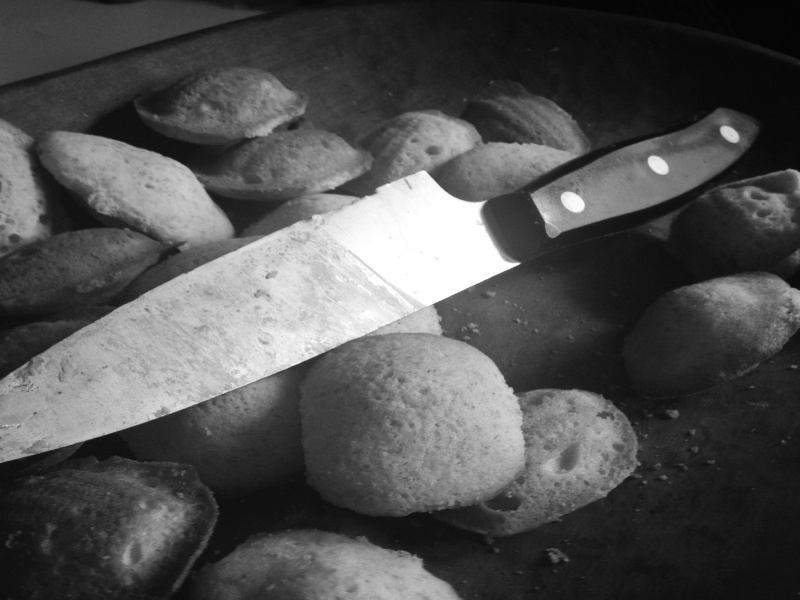knife: (1, 101, 774, 464)
